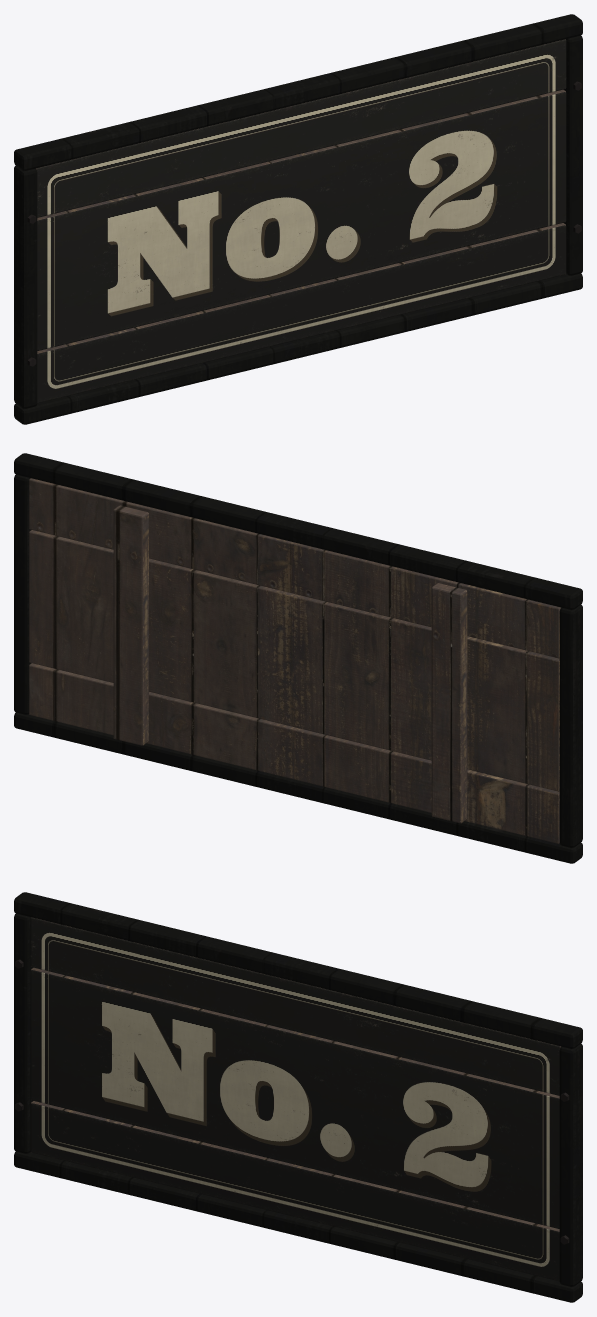
The model's file is gate-board-no-2.glb.
3 renders of one model, top to bottom at view 1: azimuth 30°, elevation 25°; view 2: azimuth 150°, elevation 25°; view 3: azimuth 330°, elevation 25°, orthographic.
Visible parts, largest first — view 1: gate-board-no-2-body; view 2: gate-board-no-2-body; view 3: gate-board-no-2-body.
Boxes of the visible parts, x1,y1,x2,y2 form: gate-board-no-2-body: [14, 14, 582, 424]; gate-board-no-2-body: [14, 453, 582, 863]; gate-board-no-2-body: [14, 892, 582, 1302].
Size of the model in its own units: 1.48 by 0.68 by 0.0857.
4 materials, 4 textured.
